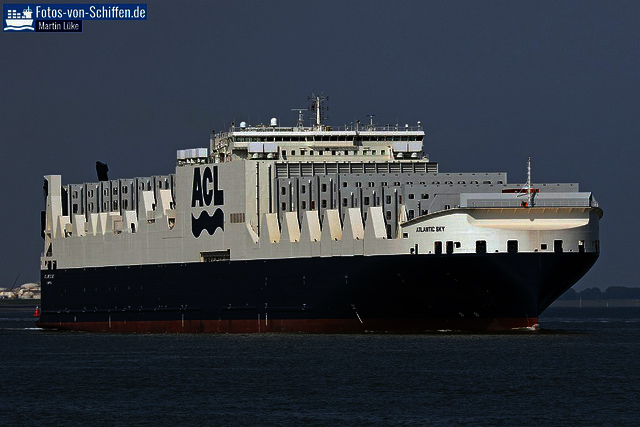container_ship: (39, 95, 600, 335)
